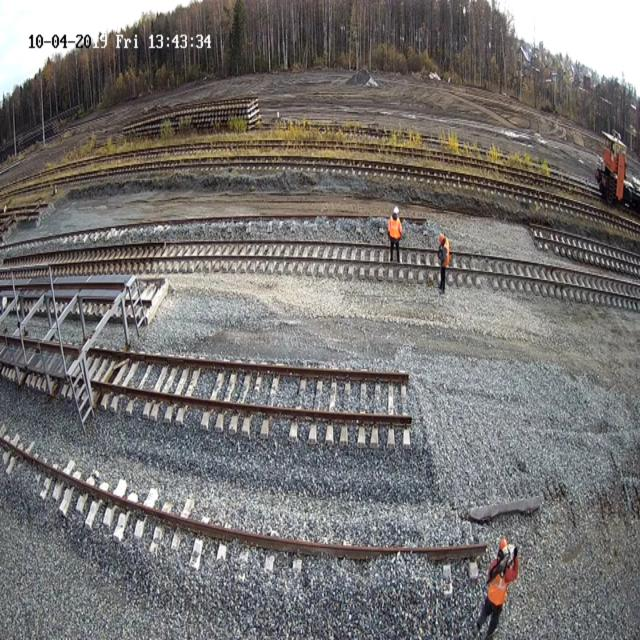Helmet: (499, 538, 507, 551), (393, 206, 399, 214)
Person: (472, 537, 518, 639), (388, 206, 402, 262), (438, 233, 449, 293)
